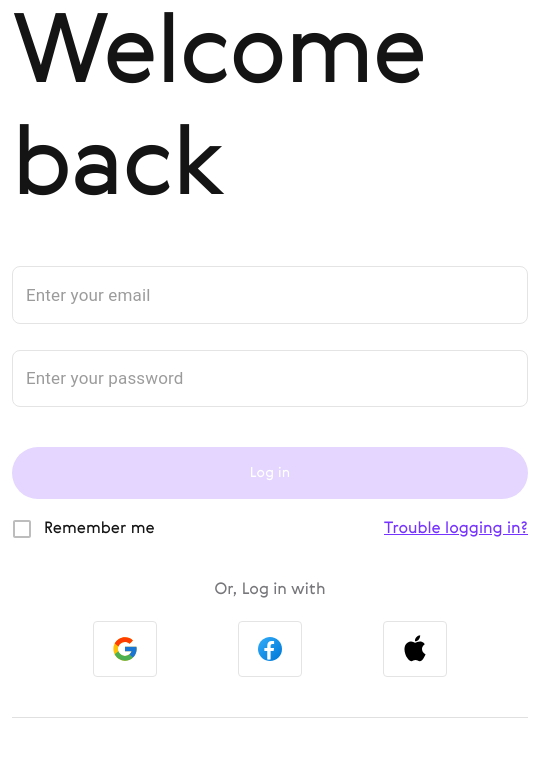
Test: Login Card component › email input field updates on change with error
The width and height of the screenshot is (545, 758).
Type "vidhyagmail.com" into the field with placeholder "Enter your email" at coordinates (270, 295), box [12,266,528,324]
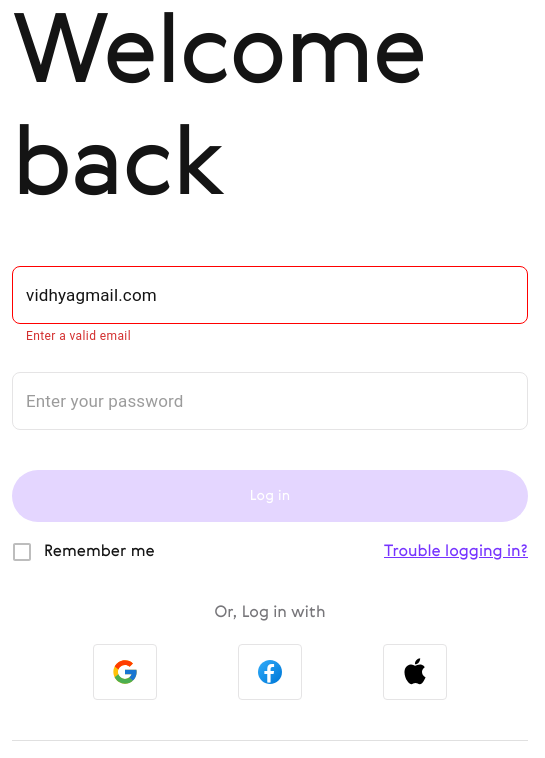
Check: the text "Enter a valid email" is shown, box [26,328,131,342]
